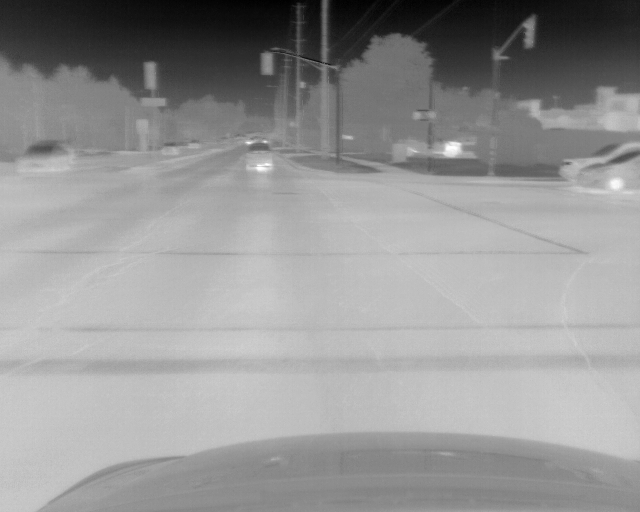car: (561, 140, 640, 183), (576, 148, 640, 190), (15, 140, 70, 173), (245, 142, 272, 170), (161, 141, 178, 155)
